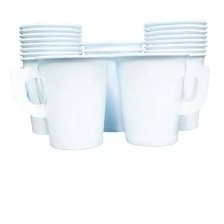paper_cup: (6, 49, 113, 154), (110, 48, 213, 150), (140, 15, 215, 134), (14, 20, 85, 138), (77, 38, 148, 135)
